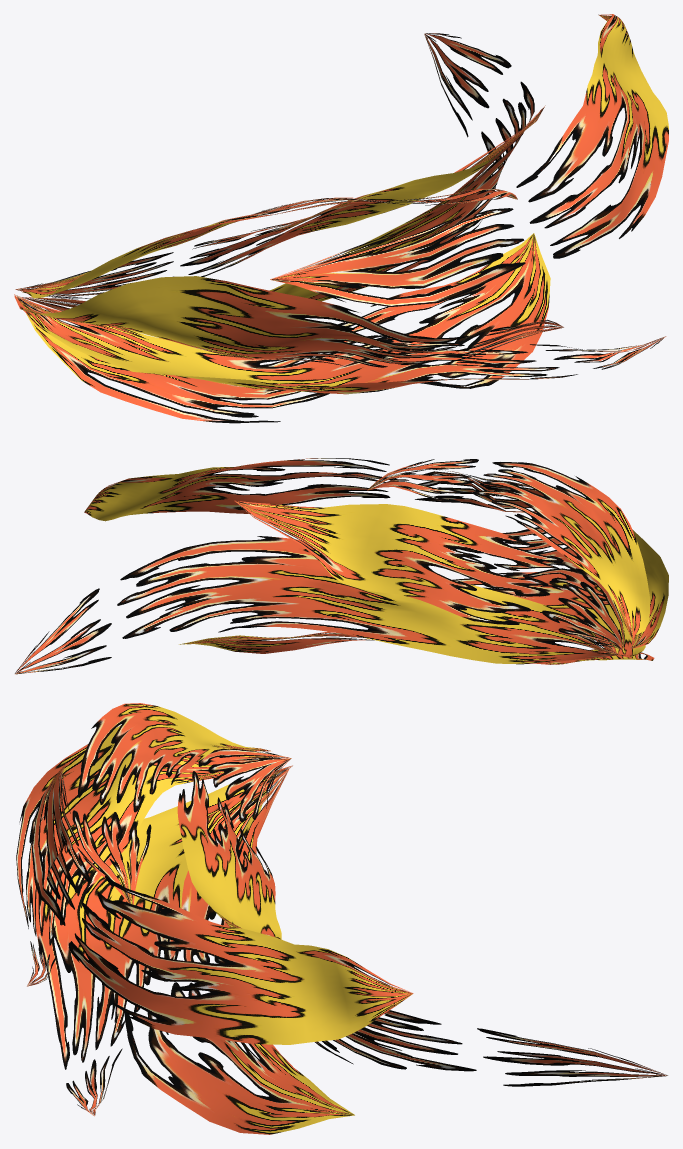
Rendered from Ogi_Atk.fbx.
3 views of the same model, one above another, from view 1: azimuth 30°, elevation 25°; view 2: azimuth 150°, elevation 25°; view 3: azimuth 270°, elevation 25° (orthographic). The views are drawn at different scales.
Parts seen in each view (by area): view 1: SM_e_Plc_P0012_SwordFireBright000; view 2: SM_e_Plc_P0012_SwordFireBright000; view 3: SM_e_Plc_P0012_SwordFireBright000.
Part boxes in pixels (box(x1,y1,x2,y2)): SM_e_Plc_P0012_SwordFireBright000: box(14, 14, 668, 423); SM_e_Plc_P0012_SwordFireBright000: box(15, 458, 668, 674); SM_e_Plc_P0012_SwordFireBright000: box(16, 703, 667, 1134).
Size of the model in its own units: 320 by 118 by 280.
